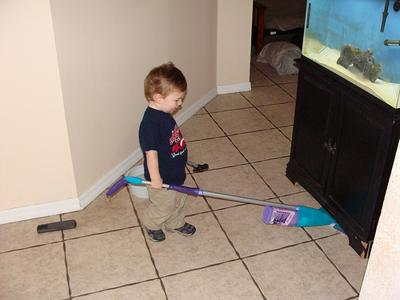person: (138, 62, 196, 243)
